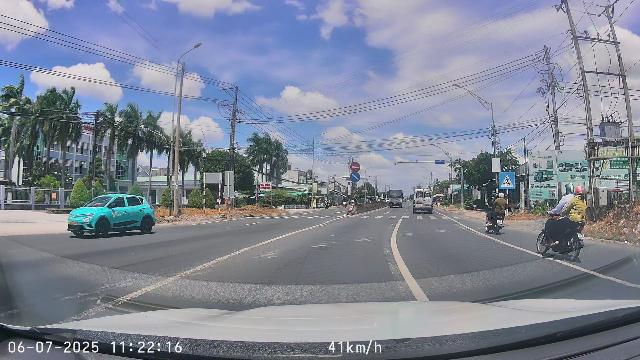423a-duong-nguoi-di-bo-sang-ngang-1: (499, 172, 515, 190)
